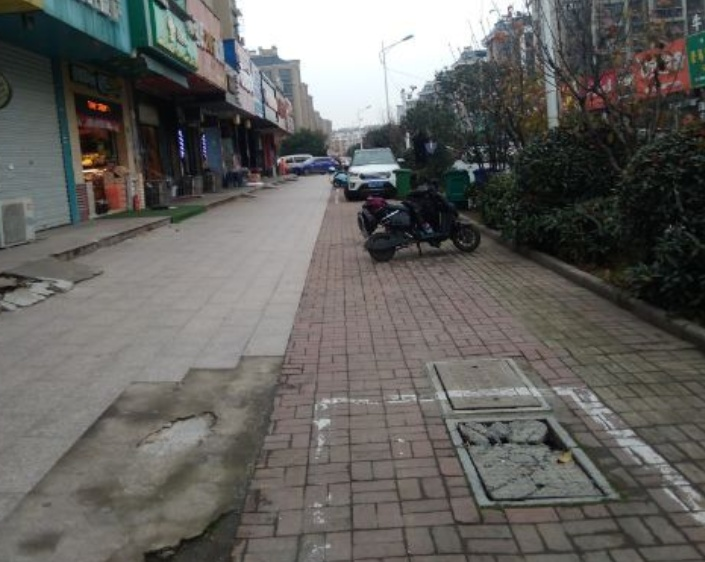well: (442, 408, 614, 507), (427, 354, 552, 412)
